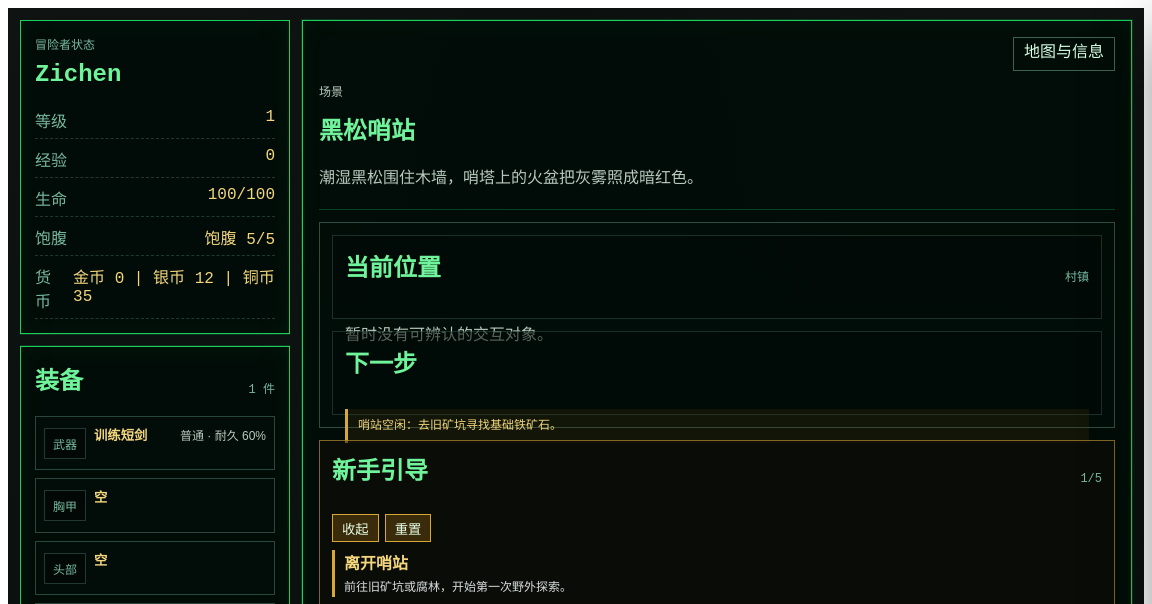
GameShell › keeps equipment details behind a slot dialog
This screenshot has width=1152, height=604.
Expected: the heading "装备" is shown, [35,361,83,396]
Expected: the text "攻 +2" is not shown
Click the button with aria-label "武器 训练短剑 普通 耐久 60%": click(155, 443) [35,416,275,470]
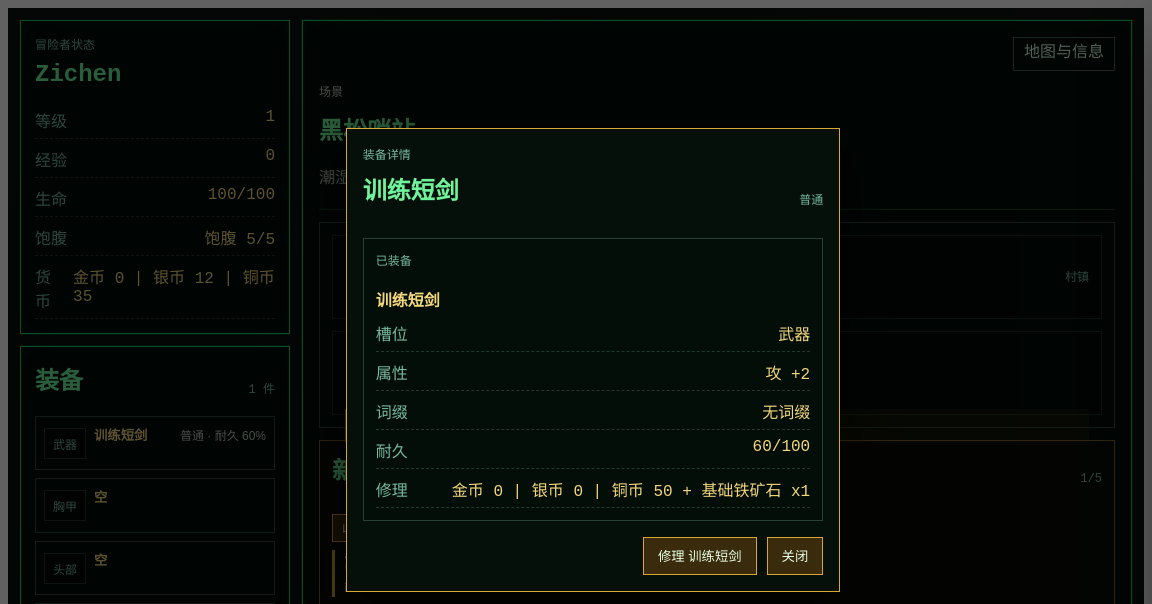
Expected: the dialog named "训练短剑 装备详情" is shown, [346,128,840,592]
Expected: the text "攻 +2" is shown, [765,360,810,384]
